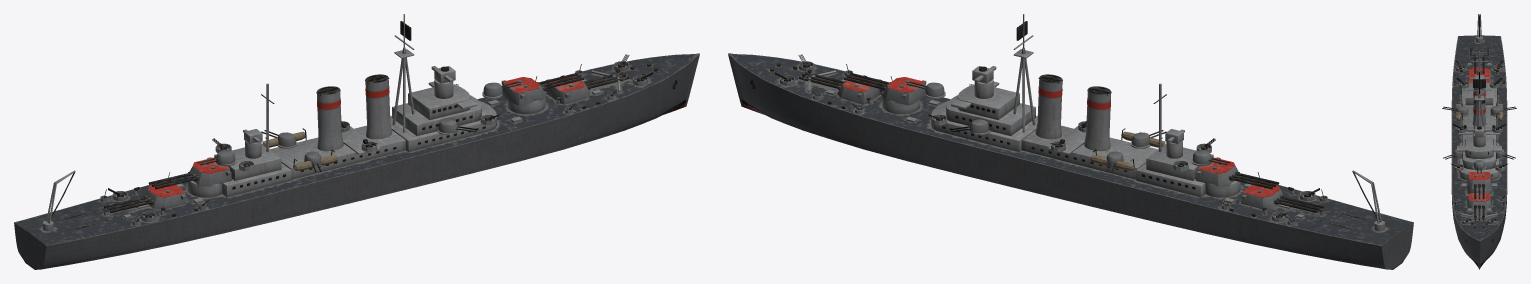
The model's file is fh_battle_e_cruiser.glb.
3 renders of one model, left to right at view 1: azimuth 30°, elevation 25°; view 2: azimuth 150°, elevation 25°; view 3: azimuth 270°, elevation 25°, orthographic. The views are drawn at different scales.
Visible parts, largest first — view 1: cruiser, turret_2, turret_3, turret_4, turret_1; view 2: cruiser, turret_2, turret_3, turret_4, turret_1; view 3: cruiser, turret_2, turret_1, turret_4, turret_3, sec_4, sec_5, sec_1, sec_2, sec_3.
Boxes of the visible parts, x1,y1,x2,y2 form: cruiser: (14,14,699,269); turret_2: (501,72,584,105); turret_3: (148,157,232,189); turret_4: (104,181,186,212); turret_1: (546,72,629,104); cruiser: (728,14,1413,269); turret_2: (843,72,926,105); turret_3: (1195,157,1279,189); turret_4: (1241,181,1323,212); turret_1: (798,72,881,104); cruiser: (1451,14,1507,269); turret_2: (1465,172,1493,199); turret_1: (1465,193,1493,220); turret_4: (1465,56,1493,80); turret_3: (1467,62,1491,82); sec_4: (1490,106,1516,115); sec_5: (1442,106,1468,115); sec_1: (1473,160,1485,173); sec_2: (1496,149,1515,159); sec_3: (1443,149,1462,159).
Bounding box in the file's own units: 1 × 0.2299 × 0.1453.
2 materials, 2 textured.
